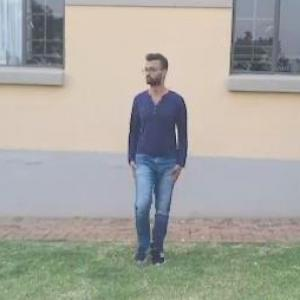follow: (117, 38, 195, 286)
